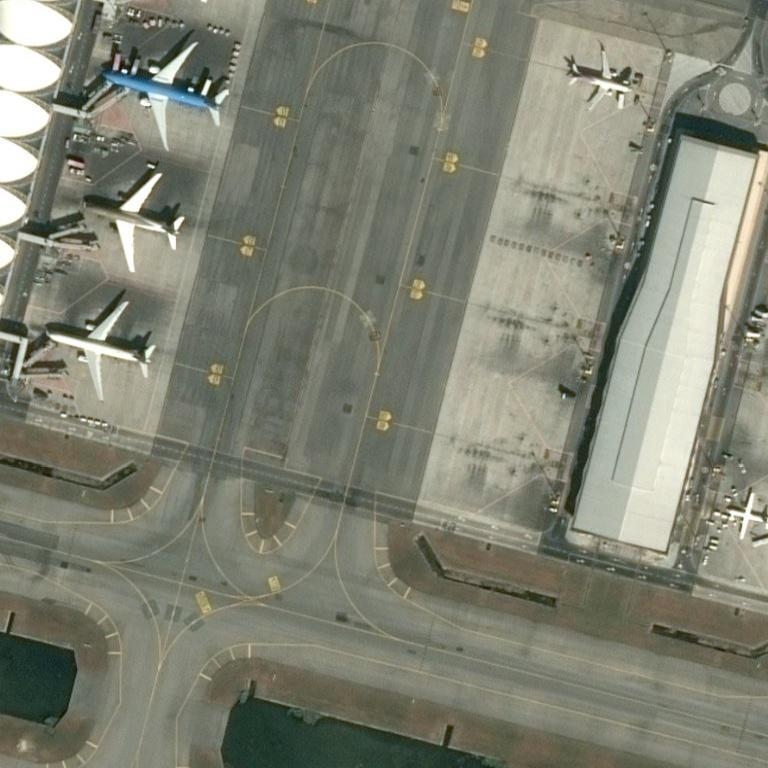plane: (104, 34, 225, 142), (44, 286, 153, 400), (78, 168, 186, 268), (563, 44, 634, 109), (726, 486, 768, 540)
